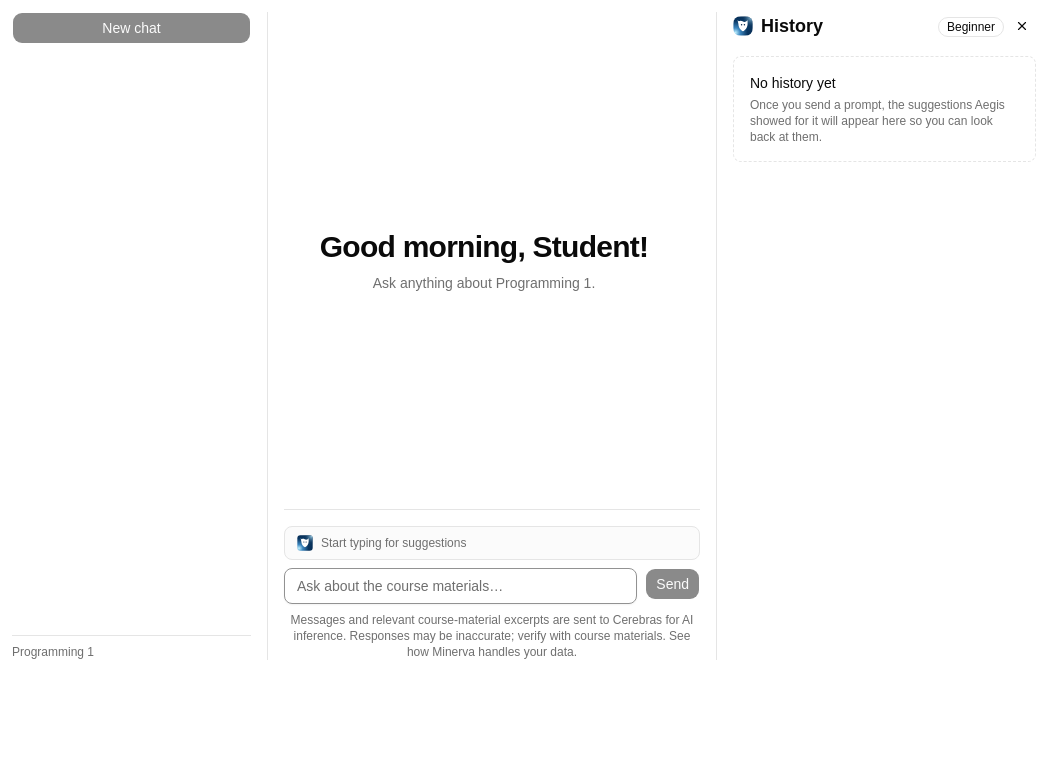
it: Aegis panel focus › returns focus to the pill on close and back into the panel on reopen
What coordinates should you click on to do the following:
click the button named "Hide Aegis panel"
I would click on:
 (1022, 26)
Its box is [1008,12,1036,40].
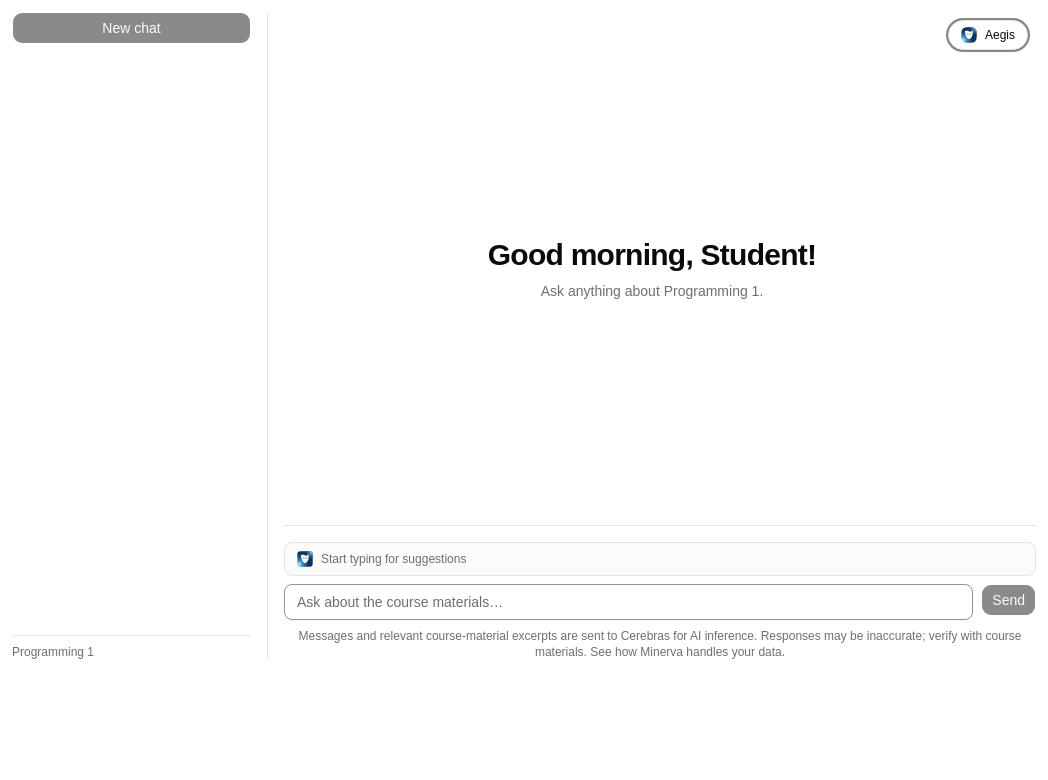
What coordinates should you click on to do the following:
click the button with aria-label "Show Aegis panel"
I would click on:
 (988, 35)
Its box is [948,20,1028,50].
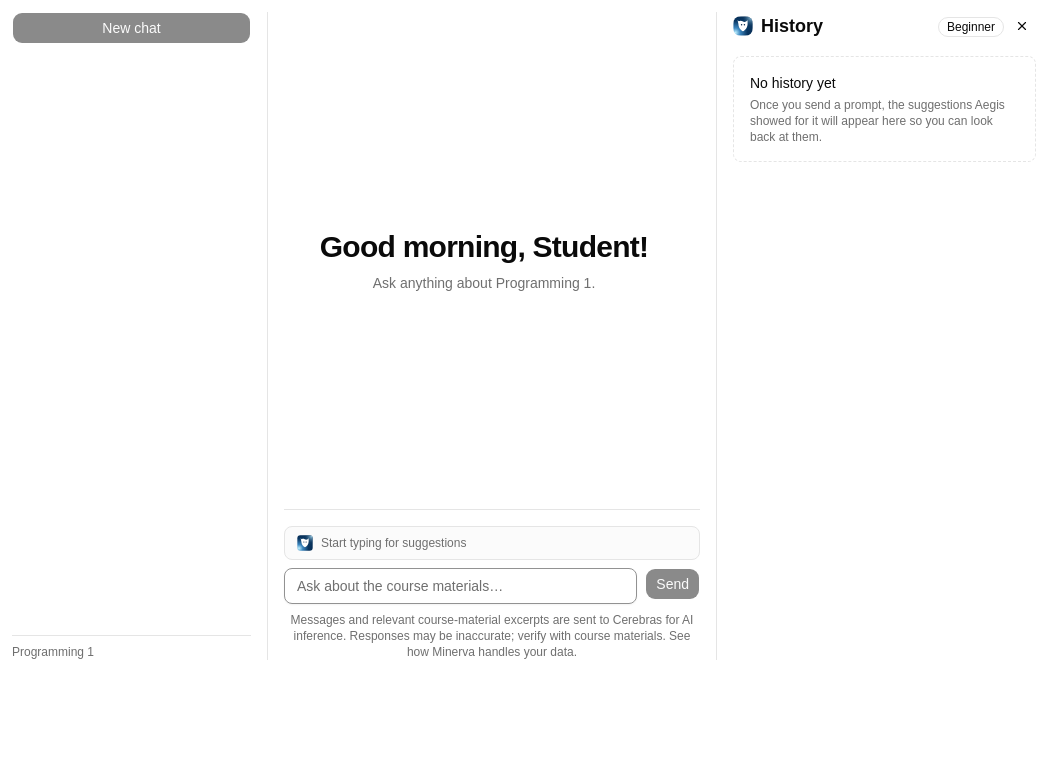
Expected: the element named "Aegis panel" is shown, [716,12,1036,660]
